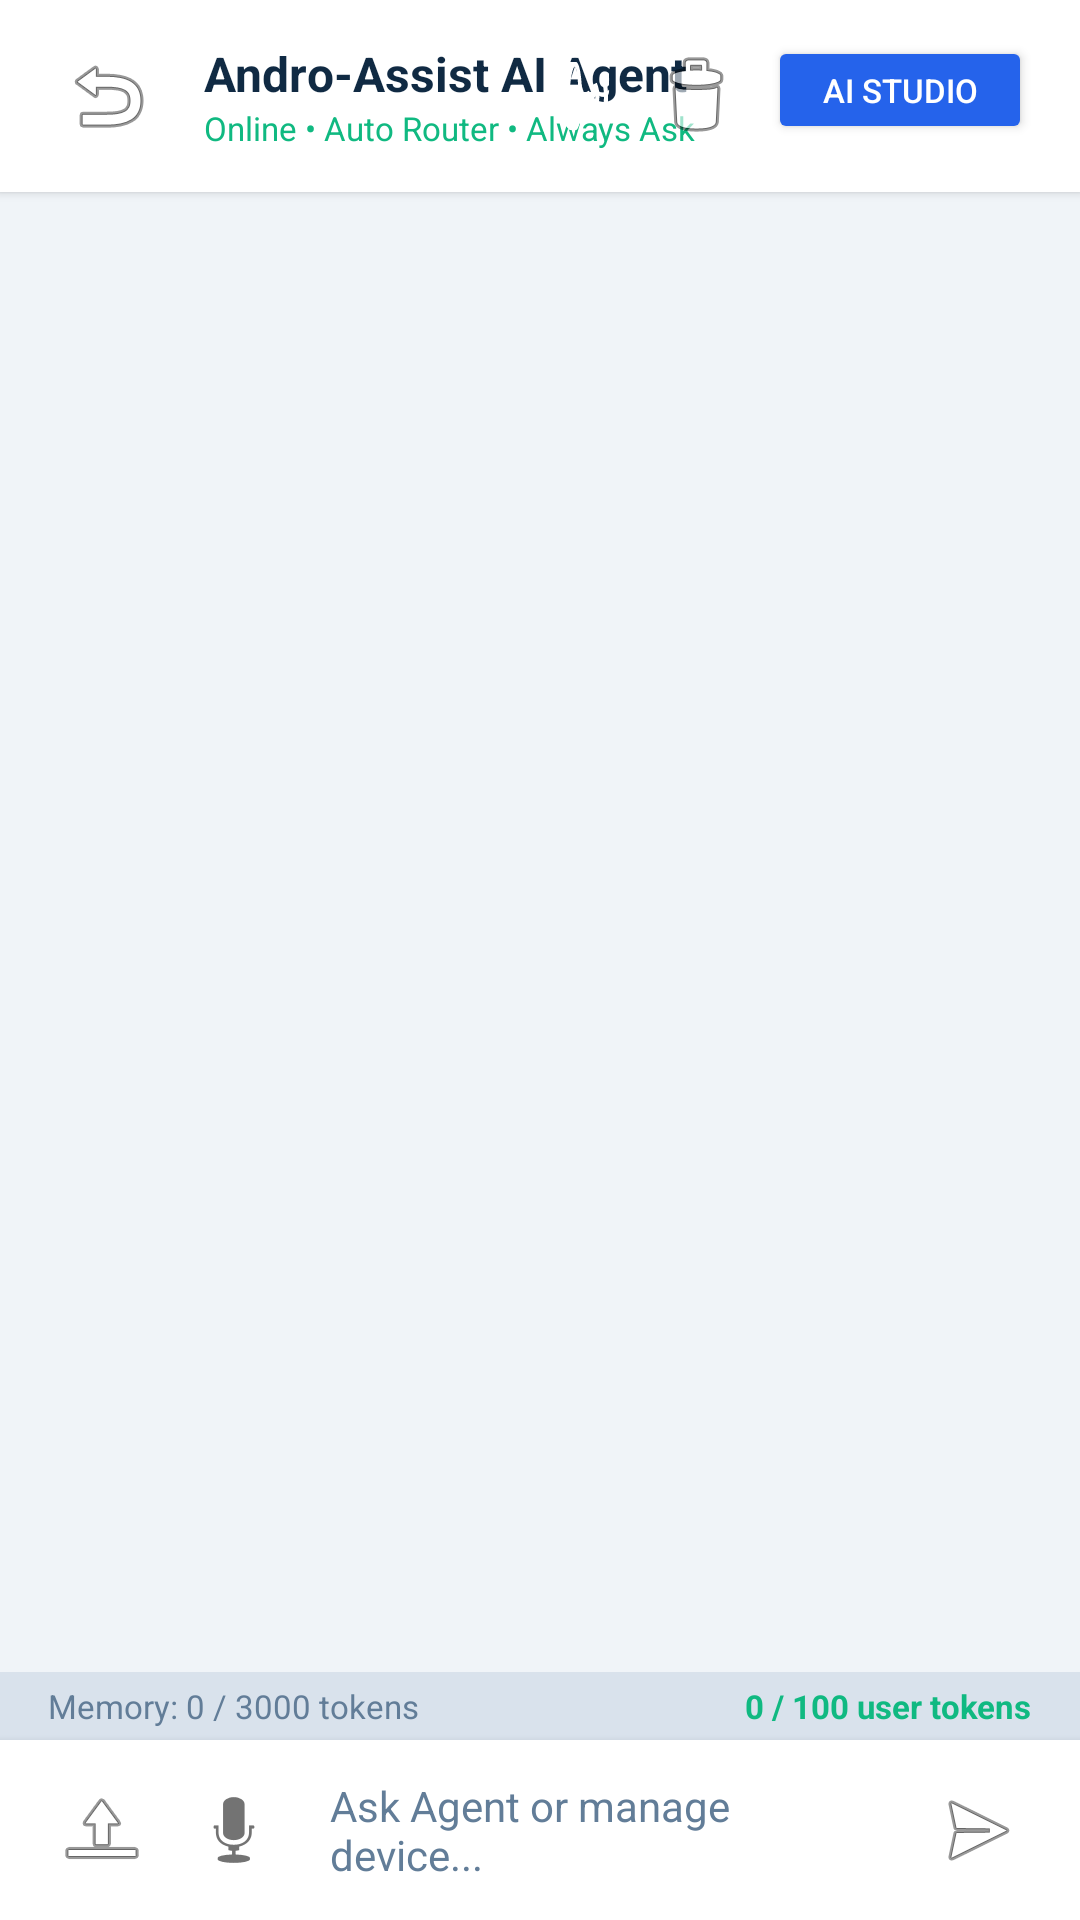

Named icons in this screenshot (1080w x 1920h) and their bounding boxes, (x1, y1, x2, y2):
Attach file or media: (65, 1798, 139, 1859)
Back: (75, 65, 144, 128)
Send Message: (948, 1800, 1010, 1861)
Voice Input: (213, 1797, 255, 1863)
